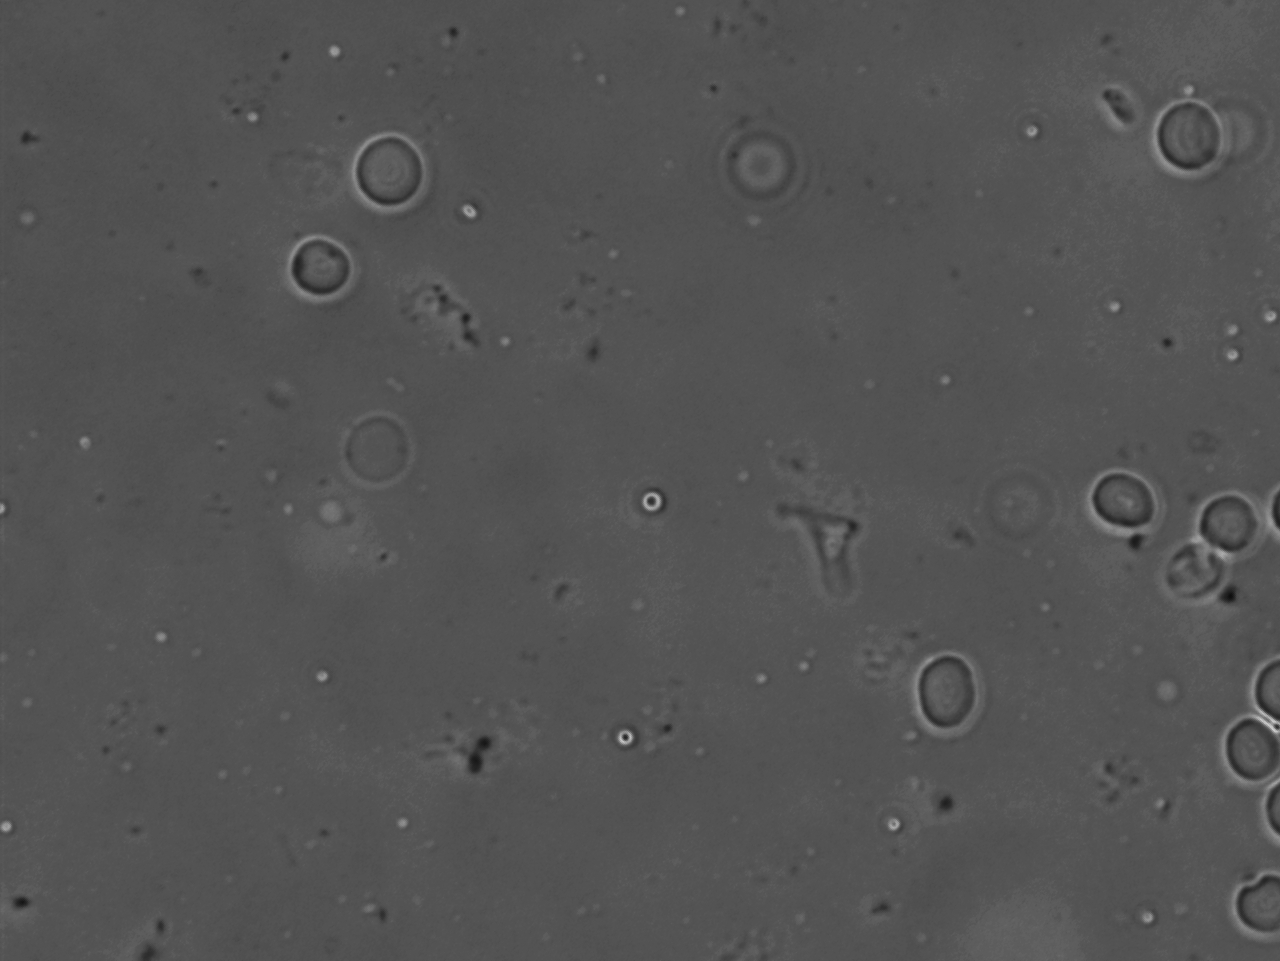depth:0: (336, 120, 447, 220), (896, 635, 997, 741), (1140, 92, 1248, 190), (1075, 448, 1167, 537), (278, 222, 361, 313), (1186, 477, 1259, 572), (1216, 698, 1280, 793), (1221, 849, 1280, 947), (1249, 652, 1280, 728)
